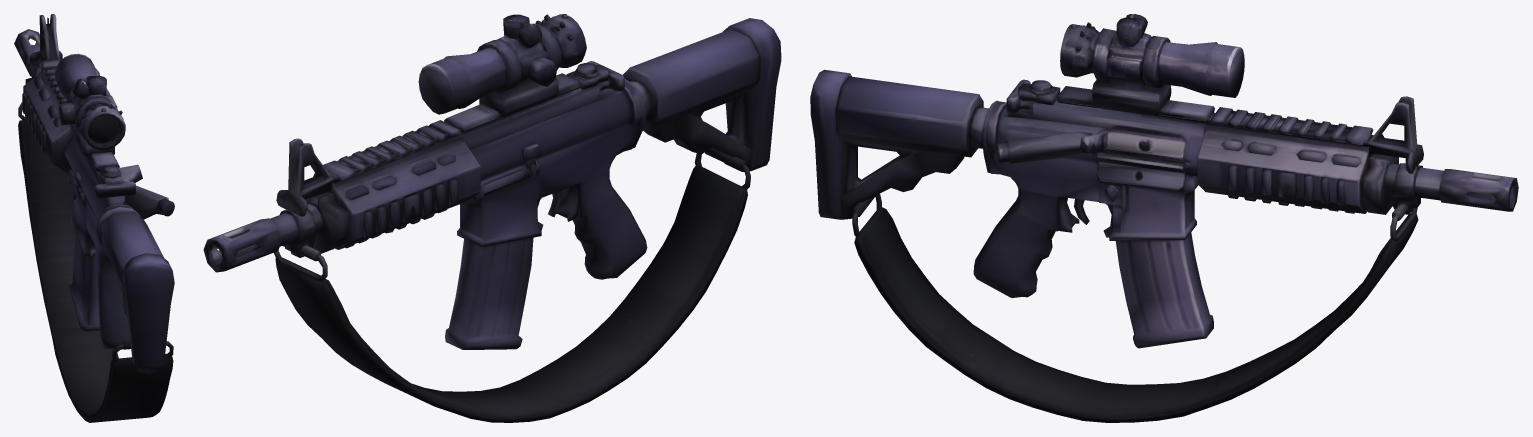
Rendered from boxbox-rifle-fiel.glb.
The picture shows the model from 3 angles, left to right: view 1: azimuth 30°, elevation 25°; view 2: azimuth 150°, elevation 25°; view 3: azimuth 270°, elevation 25°; orthographic projection. The views are drawn at different scales.
Parts seen in each view (by area): view 1: tripo_node_fec51a9b-33b8-45d3-808c-1f666c50fffb; view 2: tripo_node_fec51a9b-33b8-45d3-808c-1f666c50fffb; view 3: tripo_node_fec51a9b-33b8-45d3-808c-1f666c50fffb.
Boxes of the visible parts, left/top/right/bottom form: tripo_node_fec51a9b-33b8-45d3-808c-1f666c50fffb: left=14, top=14, right=174, bottom=422; tripo_node_fec51a9b-33b8-45d3-808c-1f666c50fffb: left=203, top=14, right=781, bottom=422; tripo_node_fec51a9b-33b8-45d3-808c-1f666c50fffb: left=810, top=14, right=1518, bottom=422.
Size of the model in its own units: 0.3703 by 0.5879 by 0.9693.
Materials: 1 (1 with a texture image).
